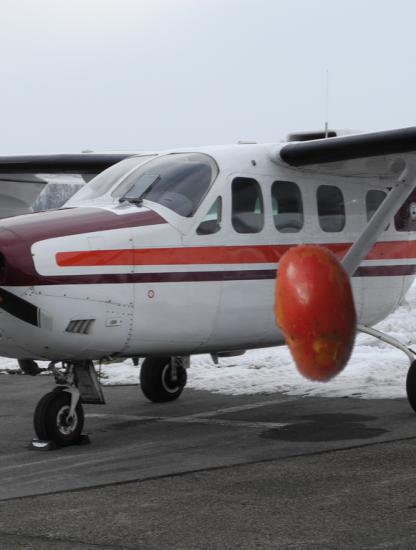Potato: (243, 241, 387, 385)
